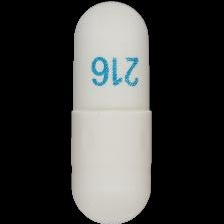43063-687: (0, 0, 224, 224)
